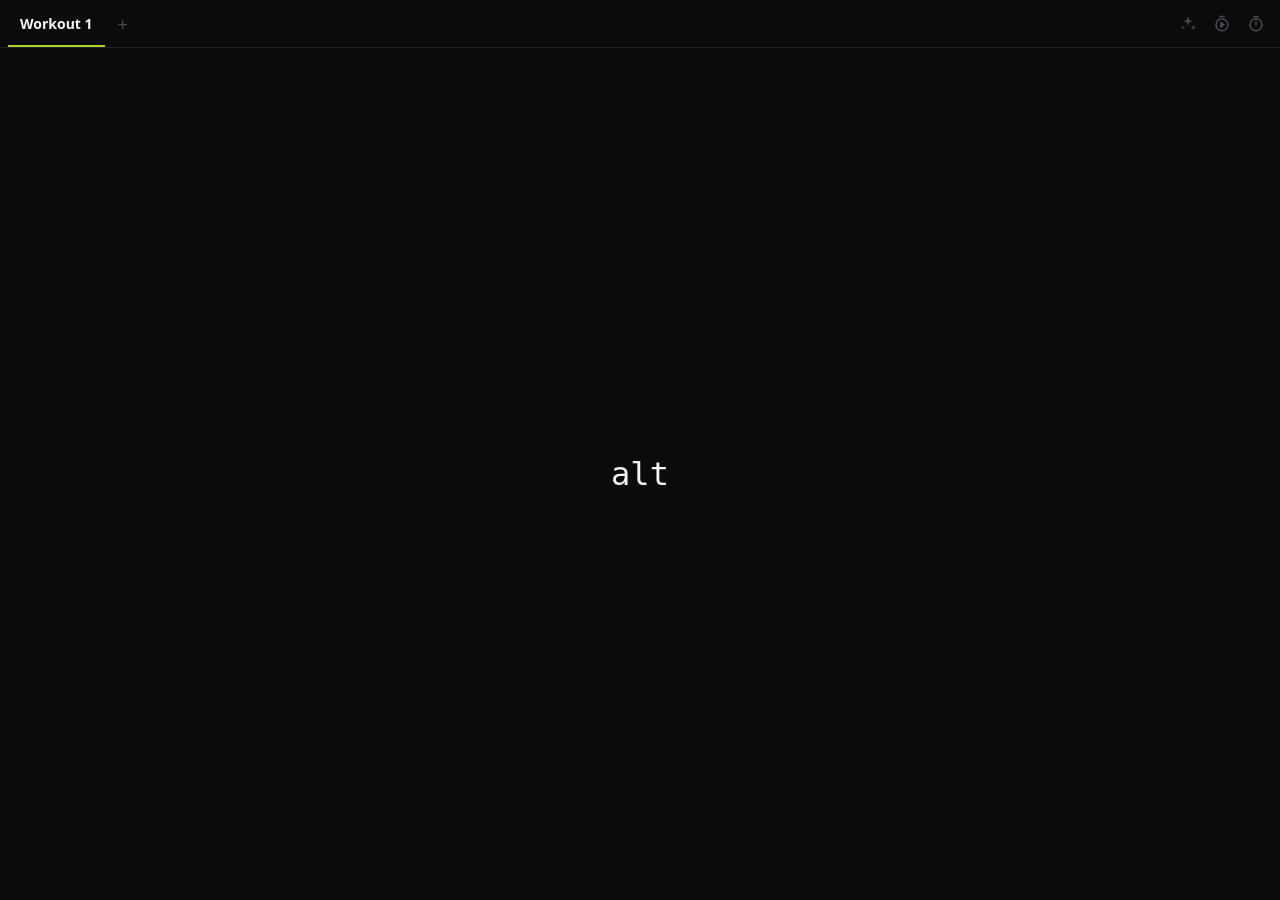
Test: WorkoutEditor AI-Generierung › legt für mehrere Phasen zusätzliche Tabs an
Step 1. Click the button named "Workout mit AI erstellen" → (1188, 24), box [1172,8,1204,40]
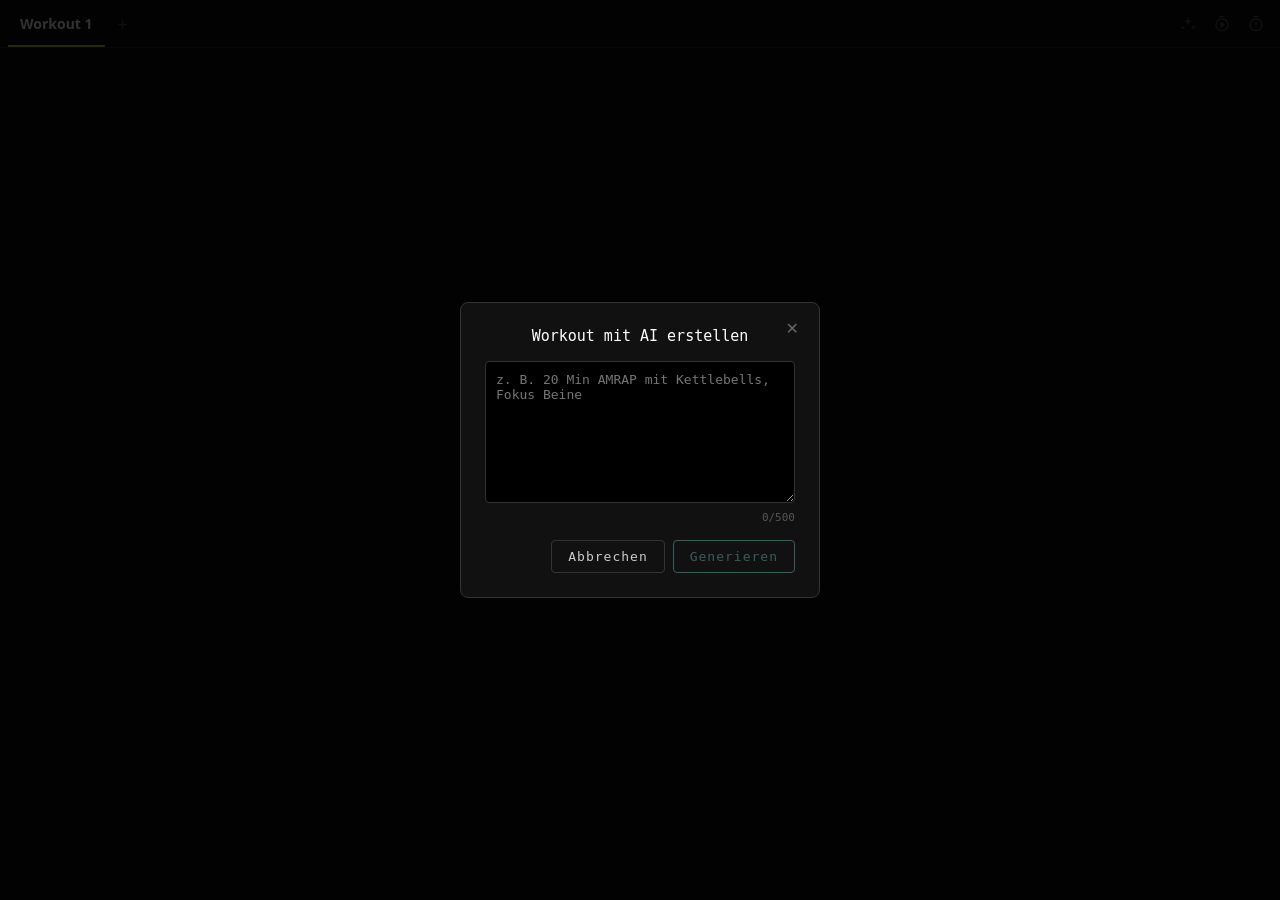
Step 2. Type "AMRAP mit Warm-up" into the text box with class "gen-input" → (640, 432), box [485,361,795,503]
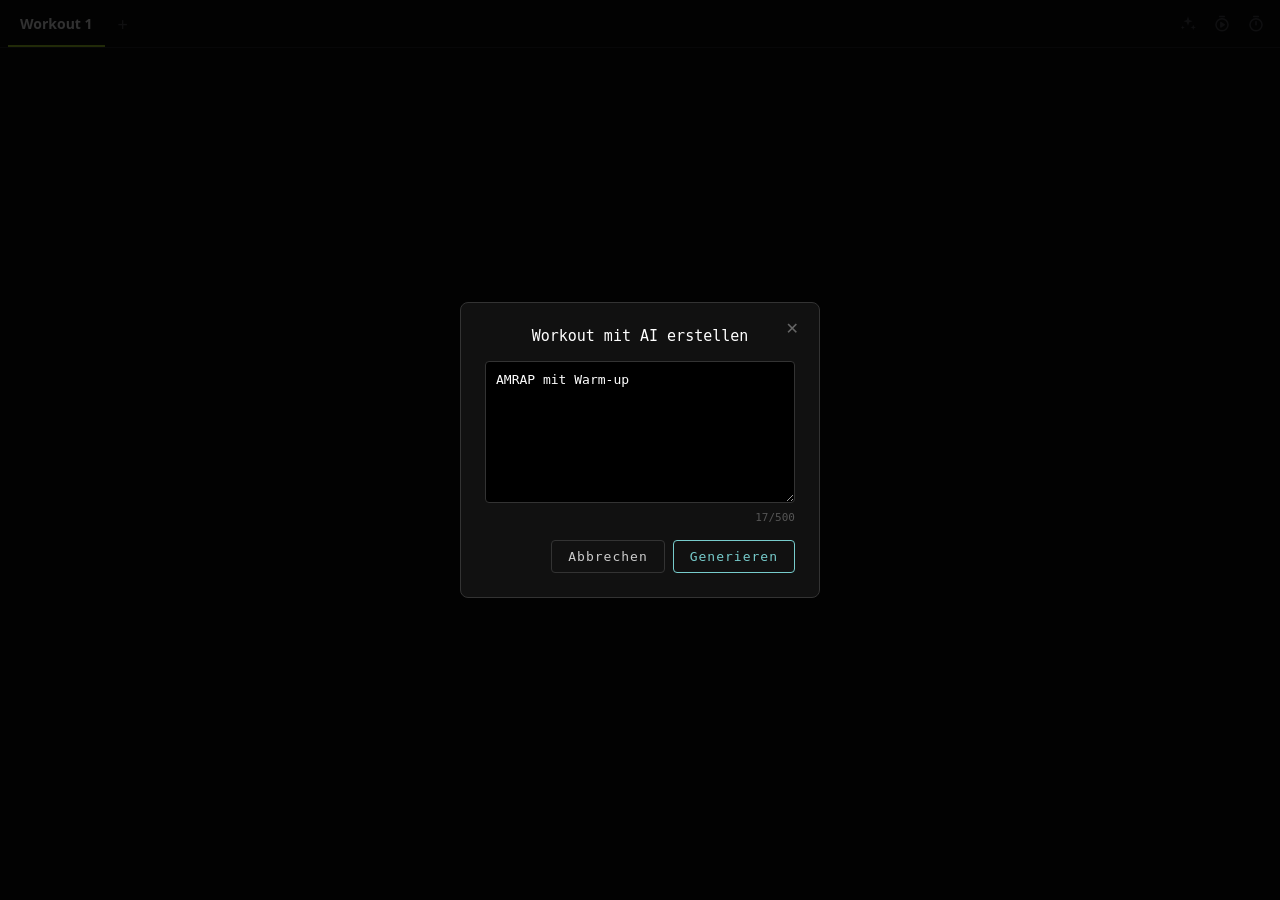
Step 3. Click the button with class "btn-generate" → (734, 556), box [673,540,795,573]
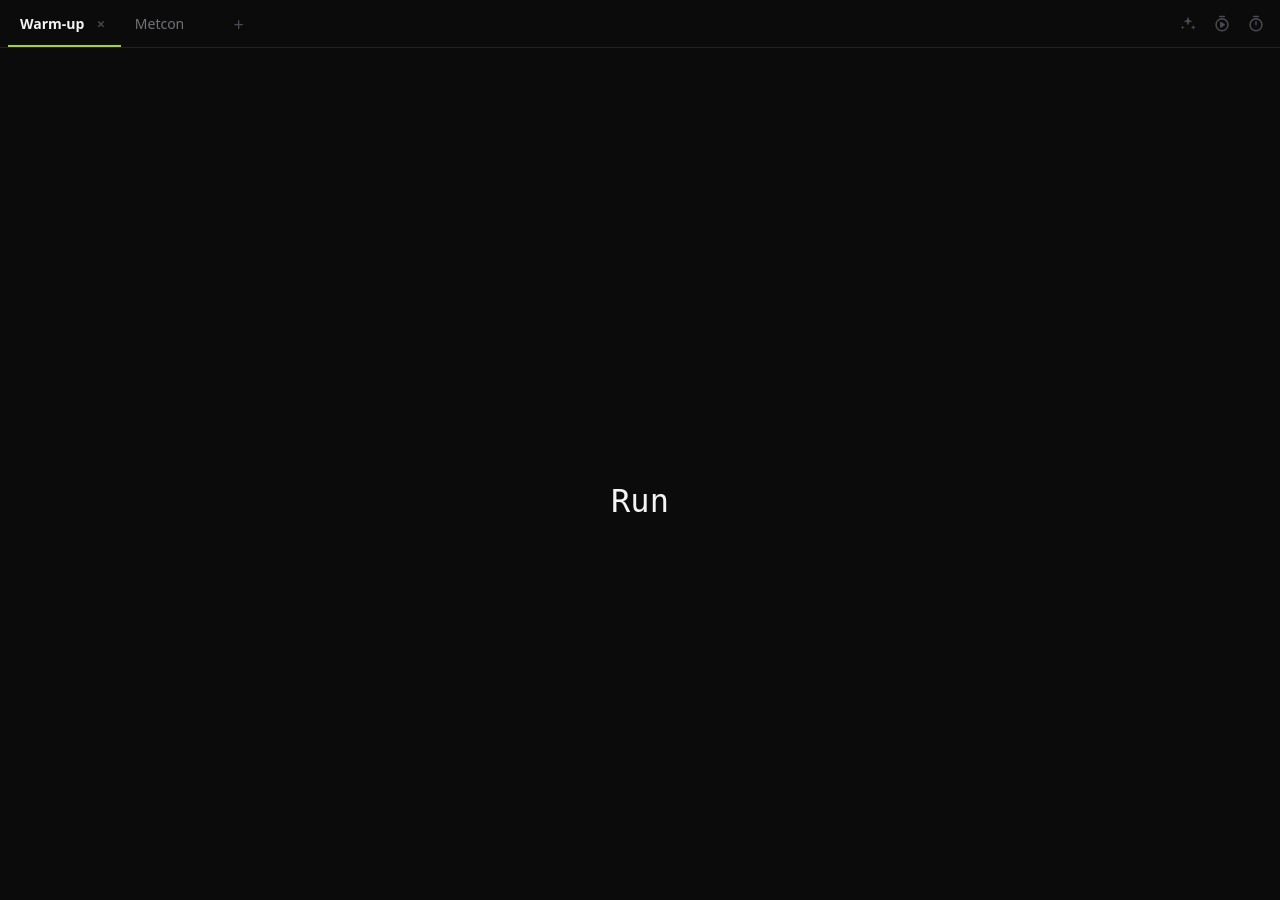
Expected: the text "Warm-up" is shown, [20,14,84,33]
Expected: the text "Metcon" is shown, [135,14,184,33]
